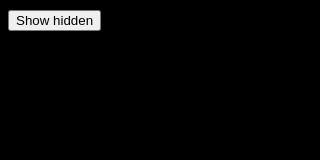
Menu › checkbox item toggles uncontrolled and reports changes
Click the menu item "Show hidden".
click(55, 20)  # box x1=8 y1=10 x2=101 y2=31
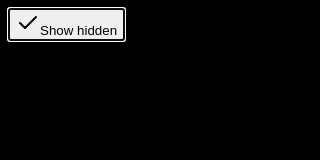
Expected: the menu item "Show hidden" is checked, x1=8 y1=8 x2=125 y2=41
